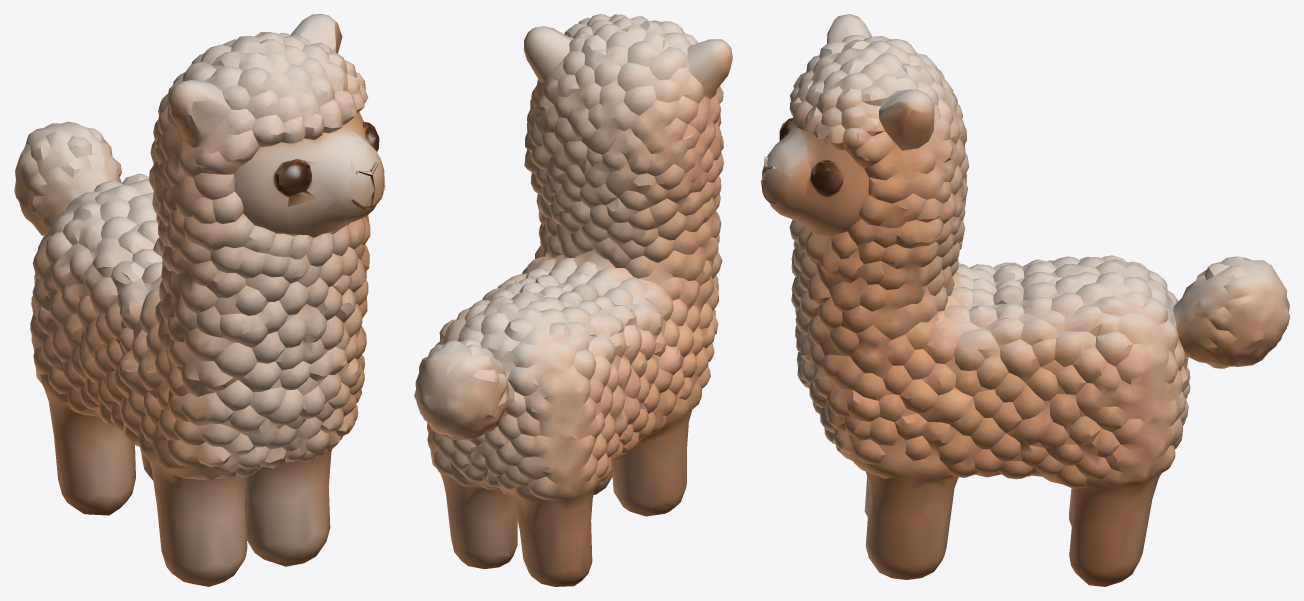
The model's file is illama.obj.
3 renders of one model, left to right at view 1: azimuth 30°, elevation 25°; view 2: azimuth 150°, elevation 25°; view 3: azimuth 270°, elevation 25°, orthographic. The views are drawn at different scales.
Visible parts, largest first — view 1: node_0; view 2: node_0; view 3: node_0.
Part boxes in pixels (x1,y1,x2,y2): node_0: (14, 14, 385, 586); node_0: (414, 14, 732, 586); node_0: (761, 14, 1289, 586).
Size of the model in its own units: 0.3904 by 0.9917 by 0.9271.
1 material, 1 textured.
